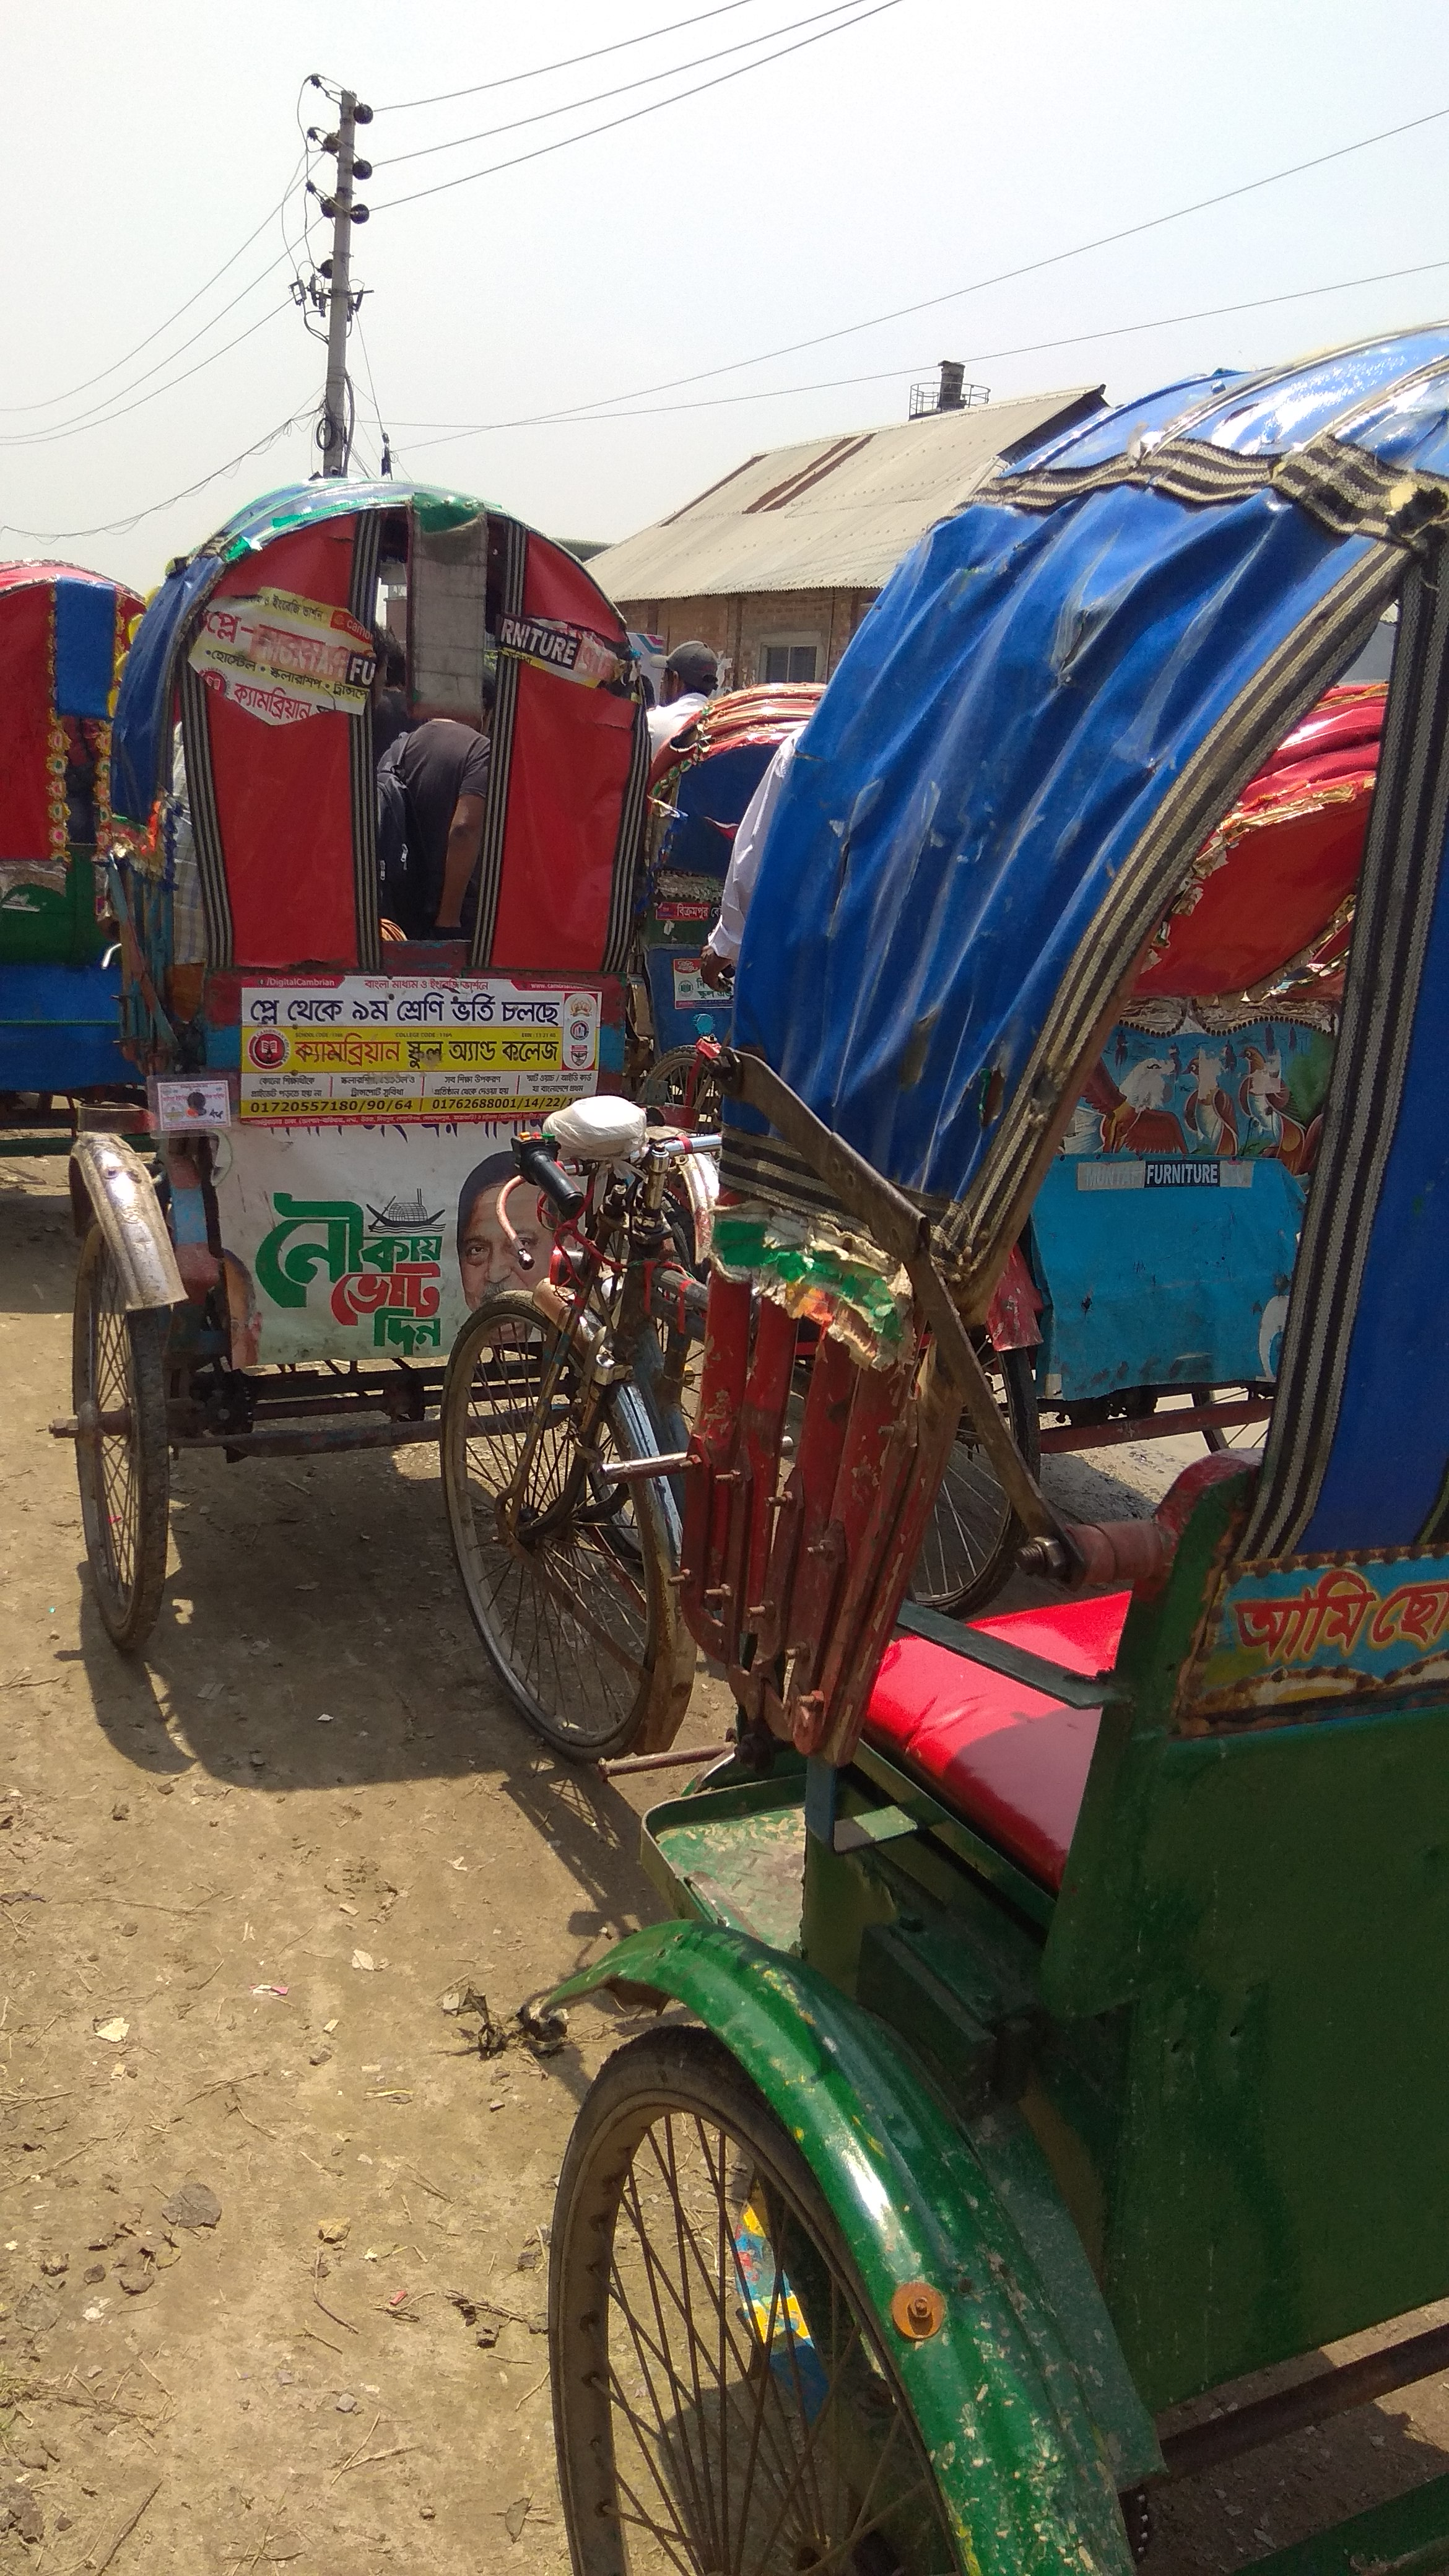Rickshaw: (616, 336, 1447, 2422), (113, 449, 694, 1644), (1003, 702, 1405, 1566), (4, 540, 234, 1212), (623, 644, 867, 1115)
